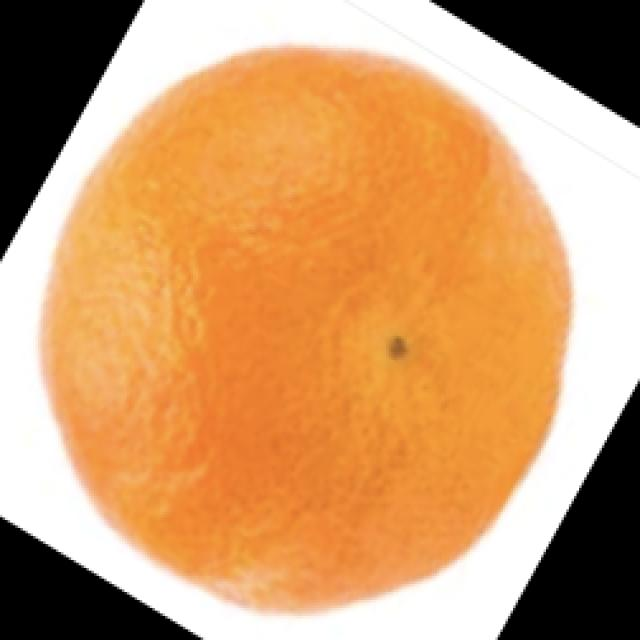matang: (43, 46, 572, 617)
